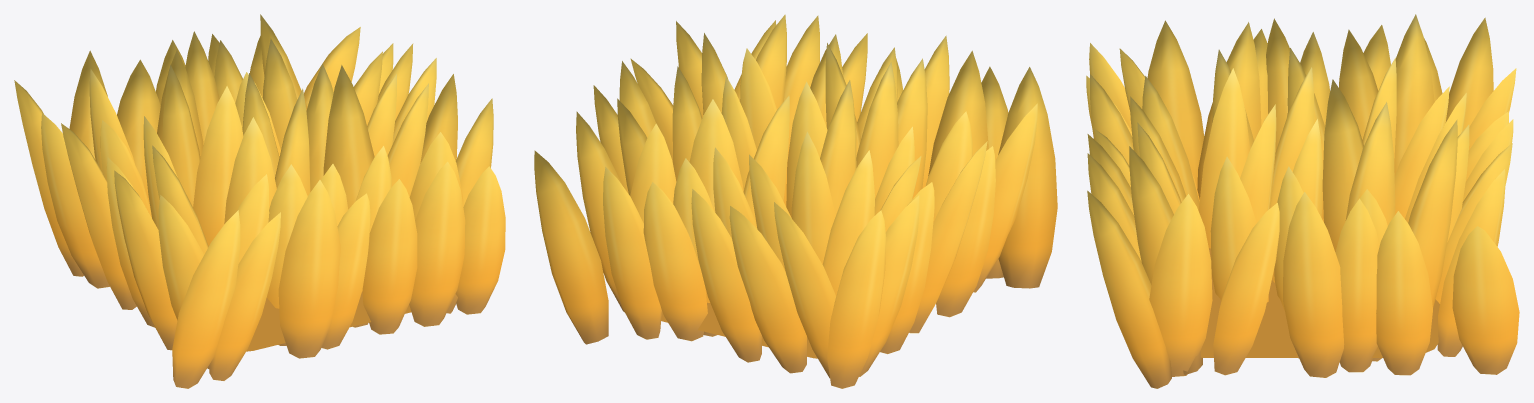
Rendered from grass_pillar.glb.
3 renders of one model, left to right at view 1: azimuth 30°, elevation 25°; view 2: azimuth 150°, elevation 25°; view 3: azimuth 270°, elevation 25°, orthographic. The views are drawn at different scales.
Parts seen in each view (by area): view 1: grass_pillar; view 2: grass_pillar; view 3: grass_pillar.
Boxes of the visible parts, bbox=[...] form: grass_pillar: bbox=[14, 14, 505, 388]; grass_pillar: bbox=[534, 14, 1057, 388]; grass_pillar: bbox=[1086, 14, 1519, 388].
Bounding box in the file's own units: 1.05 × 0.6681 × 1.06.
Materials: 1 (1 with a texture image).
